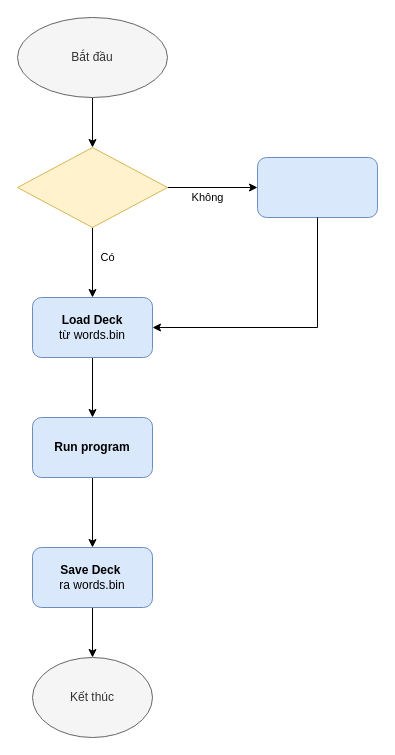
Some shapes in this 395 by 755 pixel diagram are drawn without their labels. The box of each missing label's shape, as (x1, y1, x2, y2) in pixels:
Creat words.bin: (256, 156, 378, 218)
words.bin đúng định dạng và tồn tại không?: (16, 146, 168, 228)
